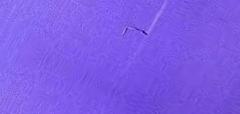snag: (121, 21, 153, 42)
